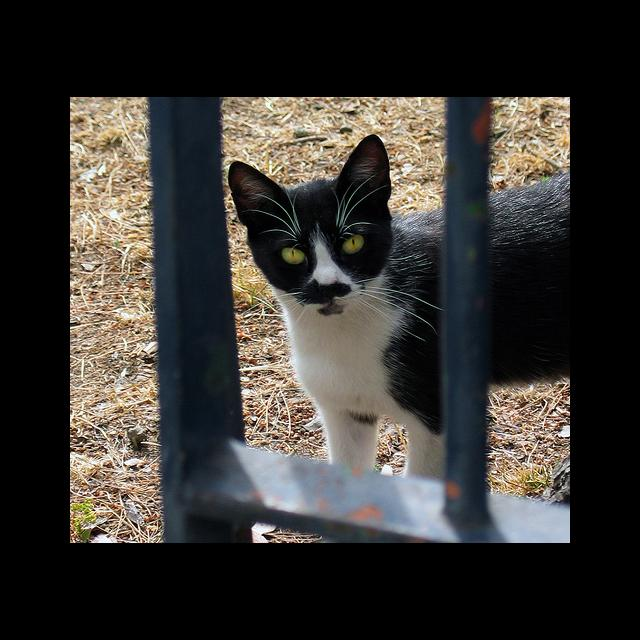animals: (234, 135, 386, 296)
